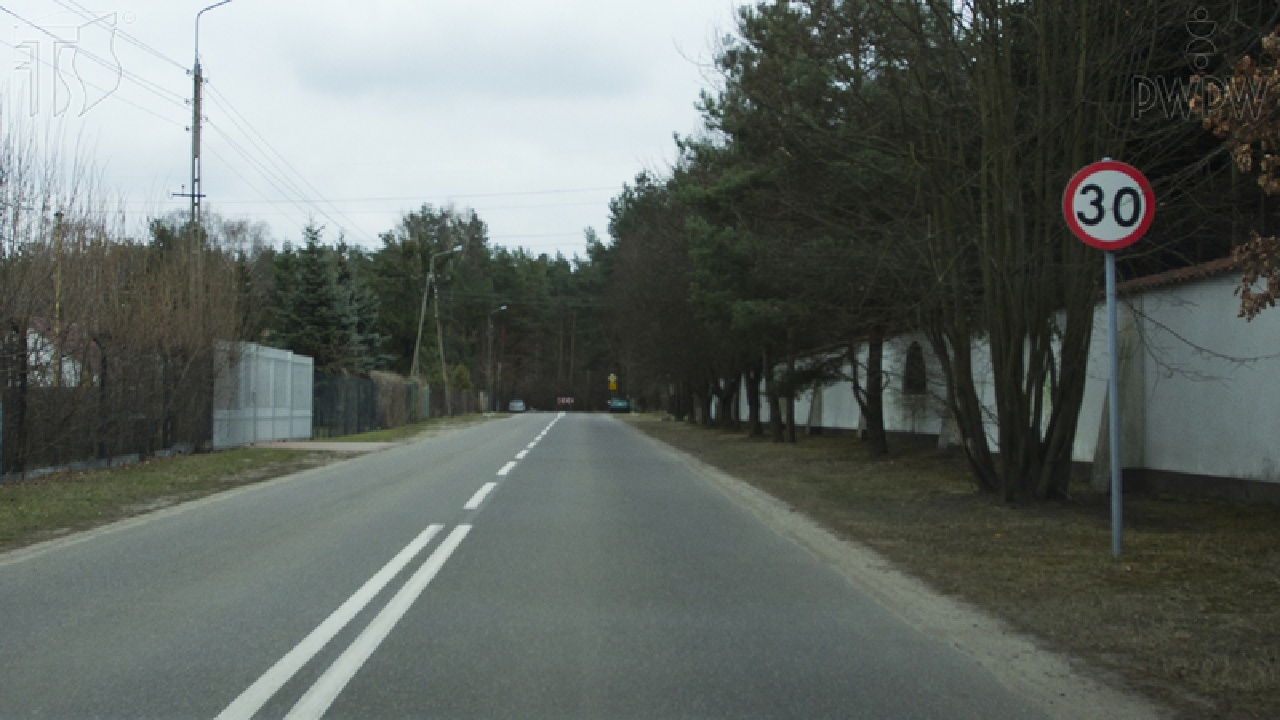B33_30: (1055, 150, 1161, 254)
